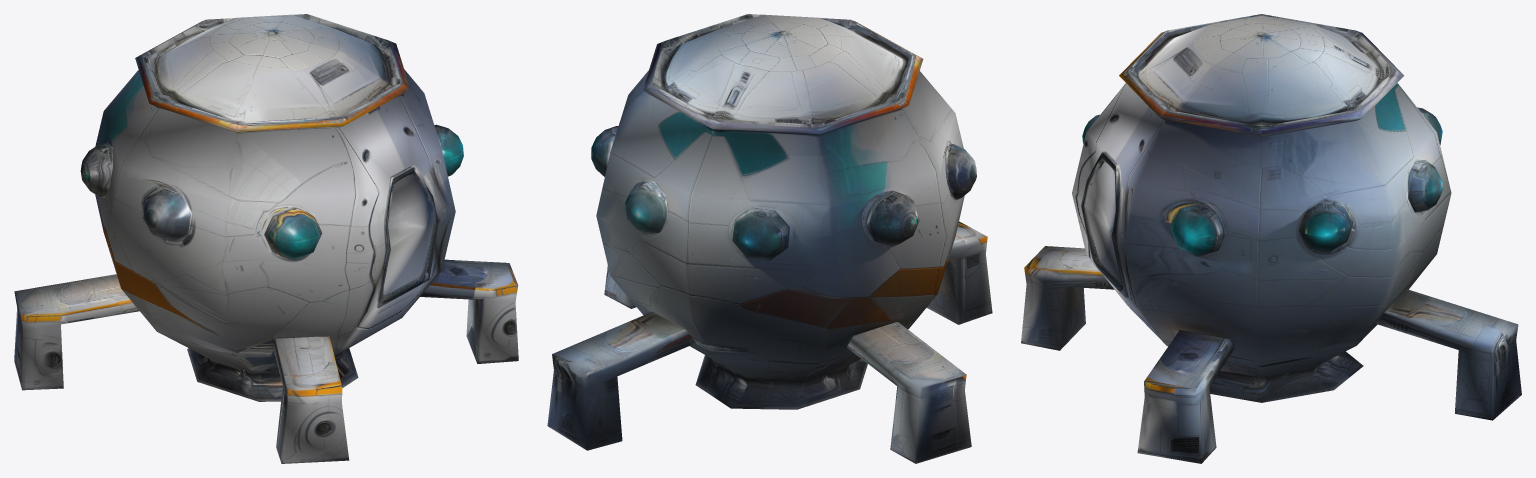
The model's file is Capsule_Ship.fbx.
3 views of the same model, side by side, from view 1: azimuth 30°, elevation 25°; view 2: azimuth 150°, elevation 25°; view 3: azimuth 270°, elevation 25° (orthographic). The views are drawn at different scales.
Parts seen in each view (by area): view 1: Capsule_Ship; view 2: Capsule_Ship; view 3: Capsule_Ship.
Part boxes in pixels (x1,y1,x2,y2): Capsule_Ship: (14,14,518,463); Capsule_Ship: (547,14,992,463); Capsule_Ship: (1021,14,1521,463).
Size of the model in its own units: 195 by 146 by 200.
1 material, 1 textured.
